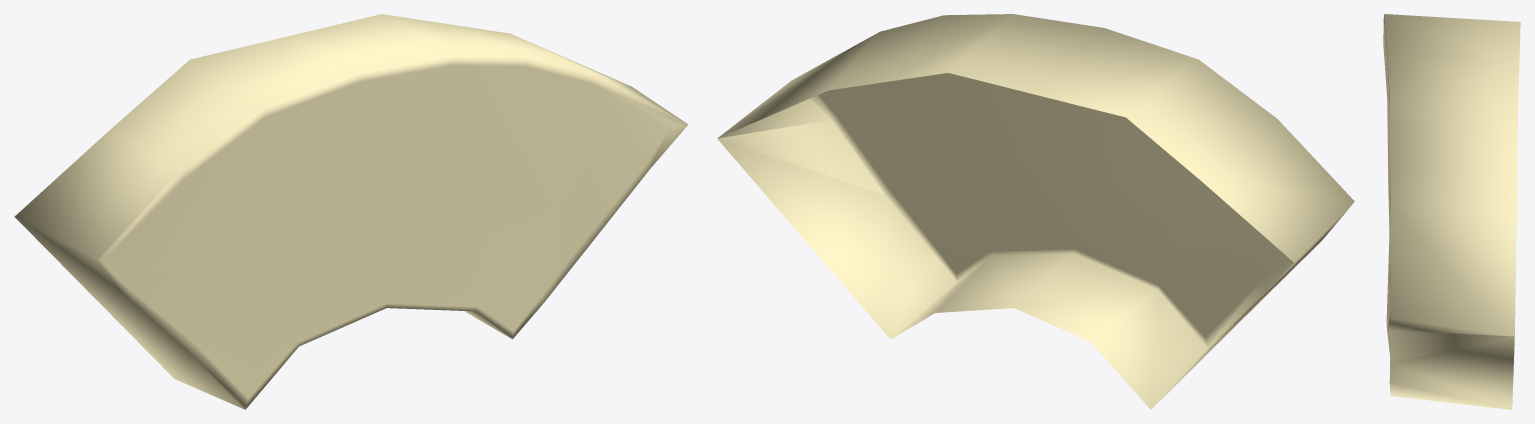
The model's file is ui_radialMenu_inner_4_top.glb.
3 views of the same model, side by side, from view 1: azimuth 30°, elevation 25°; view 2: azimuth 150°, elevation 25°; view 3: azimuth 270°, elevation 25° (orthographic). The views are drawn at different scales.
Visible parts, largest first — view 1: main4_top; view 2: main4_top; view 3: main4_top.
Part boxes in pixels (bbox=[...]): main4_top: bbox=[14, 14, 688, 409]; main4_top: bbox=[717, 14, 1354, 409]; main4_top: bbox=[1383, 14, 1520, 409].
Bounding box in the file's own units: 0.6235 × 0.3177 × 0.1324.
